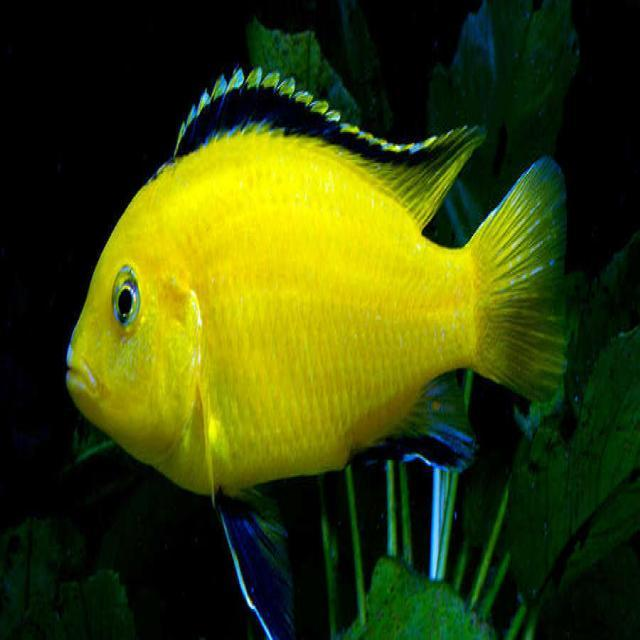YellowCichlid: (68, 67, 567, 487)
